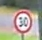limite 30: (11, 8, 33, 33)
